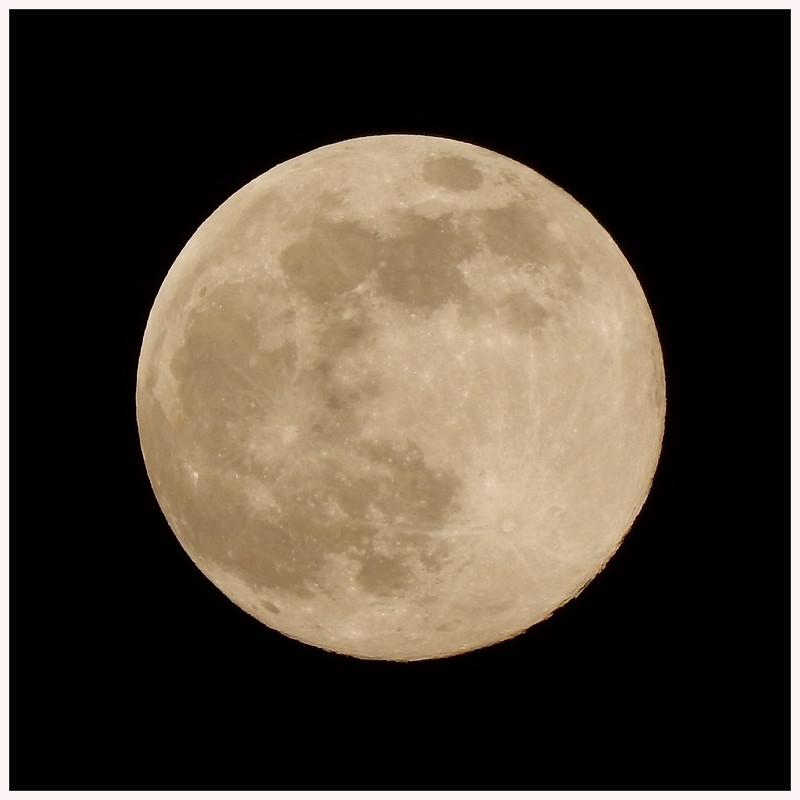crater: (456, 457, 571, 583), (269, 210, 389, 321), (246, 378, 321, 471), (541, 215, 579, 254), (586, 313, 610, 345), (193, 276, 218, 306), (219, 537, 245, 565), (608, 304, 631, 335), (179, 462, 207, 487), (423, 186, 450, 210), (455, 377, 479, 403), (387, 505, 412, 528), (402, 303, 419, 323), (231, 467, 245, 483)
